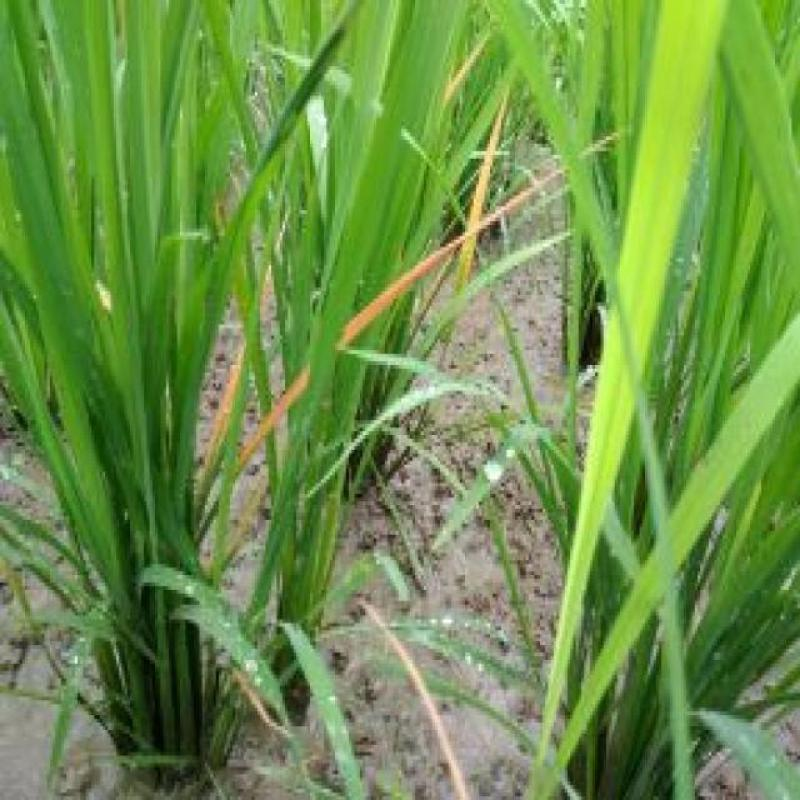Rice Tungro: (435, 96, 526, 392)
